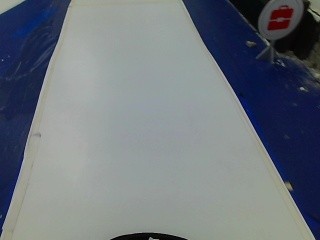company: (255, 0, 303, 44)
